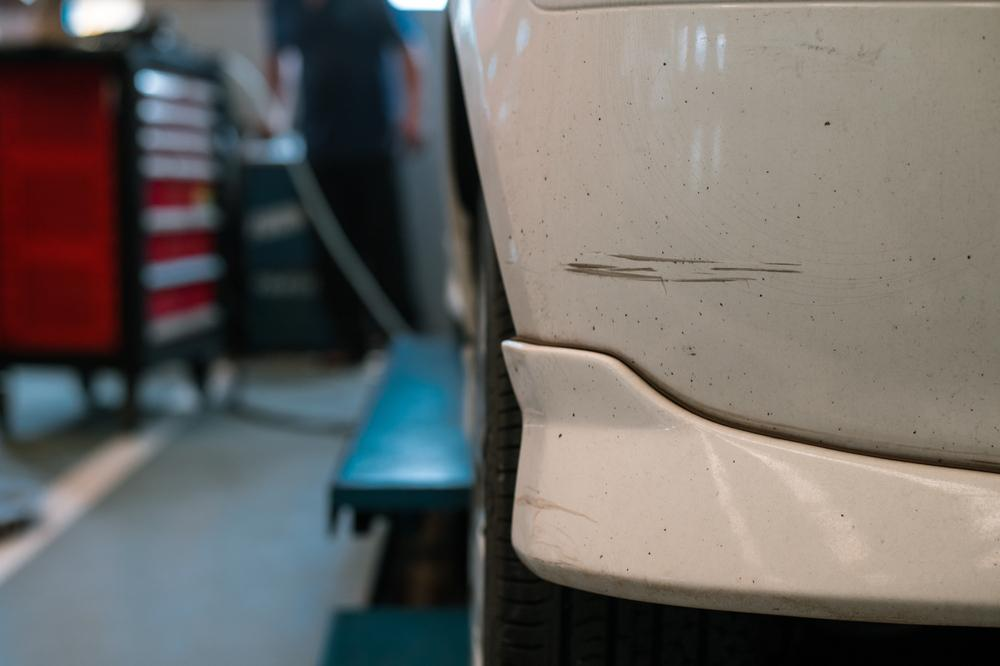scratch: (562, 245, 816, 288)
